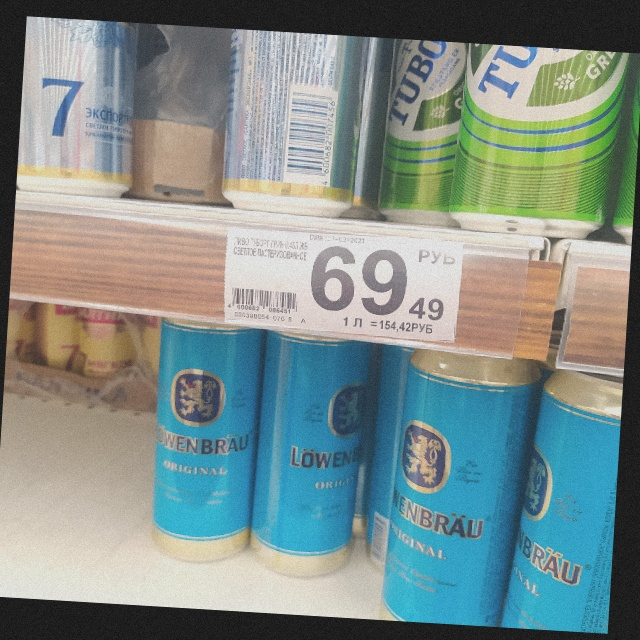barcode: (227, 284, 301, 316)
name: (232, 234, 313, 267)
price: (310, 244, 445, 323)
price_tag: (222, 223, 464, 344)
